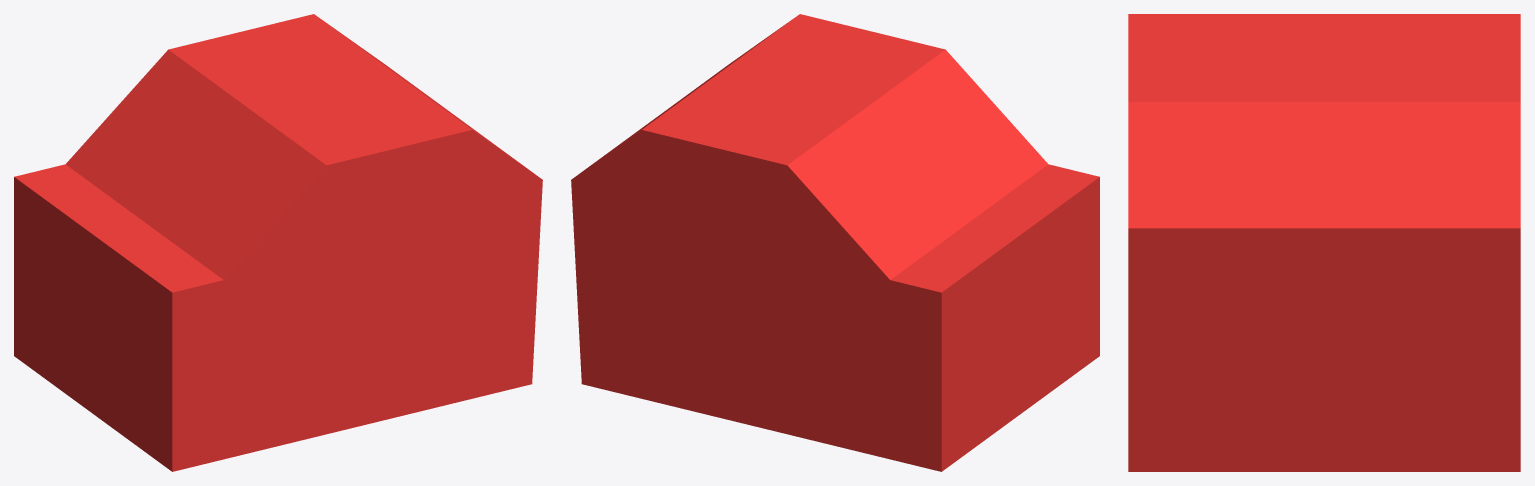
Rendered from student.fbx.
3 views of the same model, side by side, from view 1: azimuth 30°, elevation 25°; view 2: azimuth 150°, elevation 25°; view 3: azimuth 270°, elevation 25° (orthographic). The views are drawn at different scales.
Visible parts, largest first — view 1: Cube; view 2: Cube; view 3: Cube.
Part boxes in pixels (bbox=[...]): Cube: bbox=[14, 14, 542, 471]; Cube: bbox=[571, 14, 1099, 471]; Cube: bbox=[1128, 14, 1520, 471].
Size of the model in its own units: 21.63 by 15 by 16.
